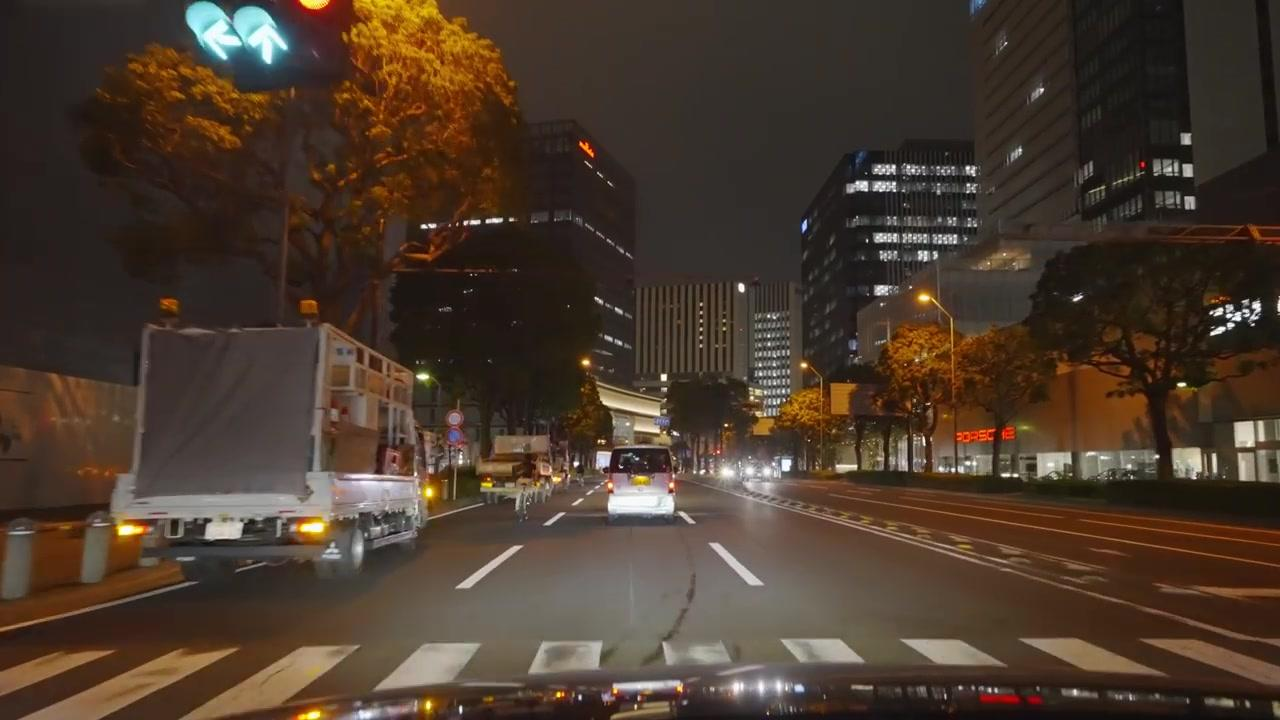bus: (603, 445, 678, 524)
car: (605, 445, 678, 525)
traffic light: (184, 0, 356, 92)
truck: (122, 323, 425, 590), (476, 434, 554, 500)
